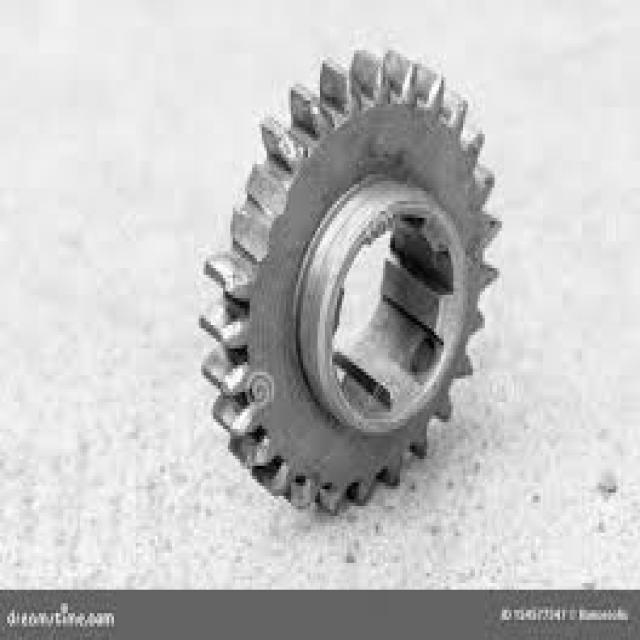Fault-Exist: (181, 42, 503, 537)
